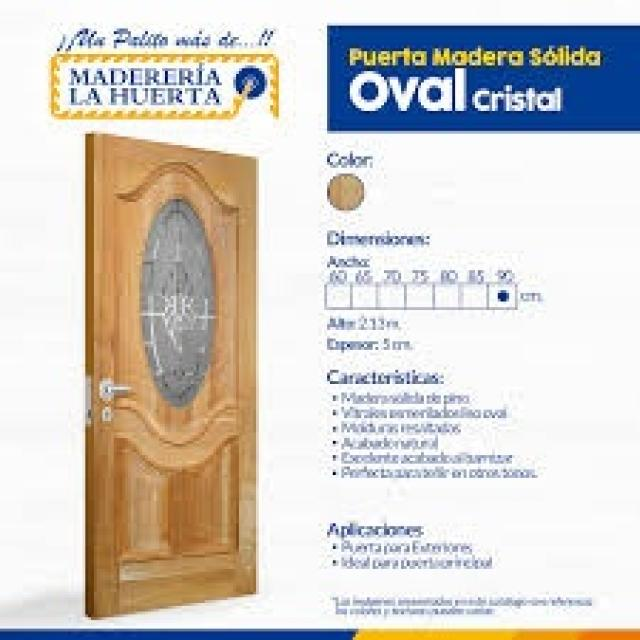door: (82, 131, 259, 617)
